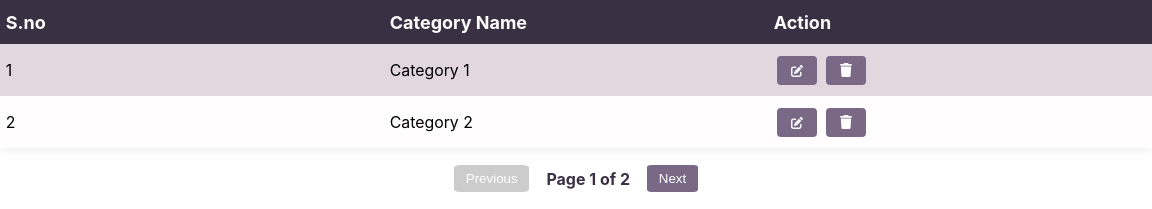
Test: CategoryTable Component › should handle edge case when navigating from last page back to first page
Click the button "Next" at x=672, y=179, box [647,165,698,192]
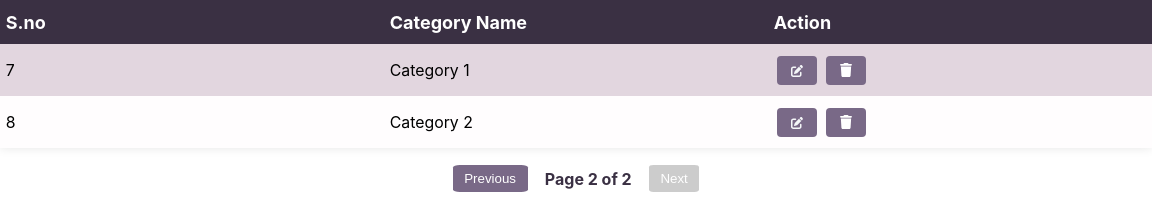
Expected: the text "Page 2 of 2" is shown, [545,169,632,189]
Click the button "Previous" at x=490, y=179, box [453,165,528,192]
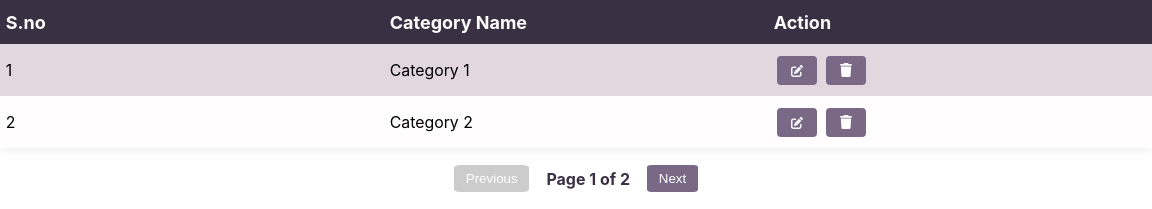
Expected: the text "Page 1 of 2" is shown, [546,169,630,189]
